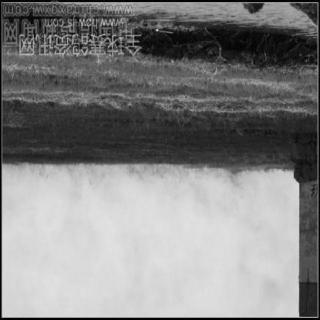Fire: (5, 160, 239, 192)
